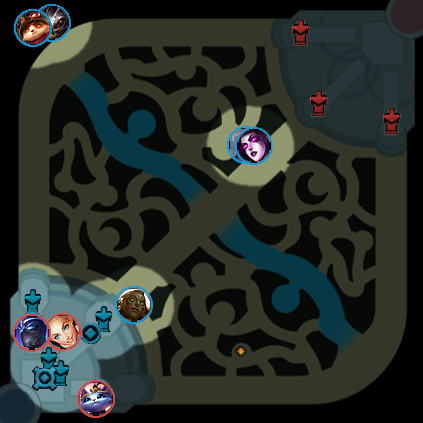Diana: (227, 126, 265, 164)
Illaoi: (115, 286, 153, 324)
KogMaw: (33, 4, 71, 42)
Lux: (44, 313, 82, 351)
Morgana: (235, 127, 273, 165)
Shen: (13, 314, 51, 352)
Teemo: (14, 9, 52, 47)
Yuumi: (77, 380, 115, 418)
